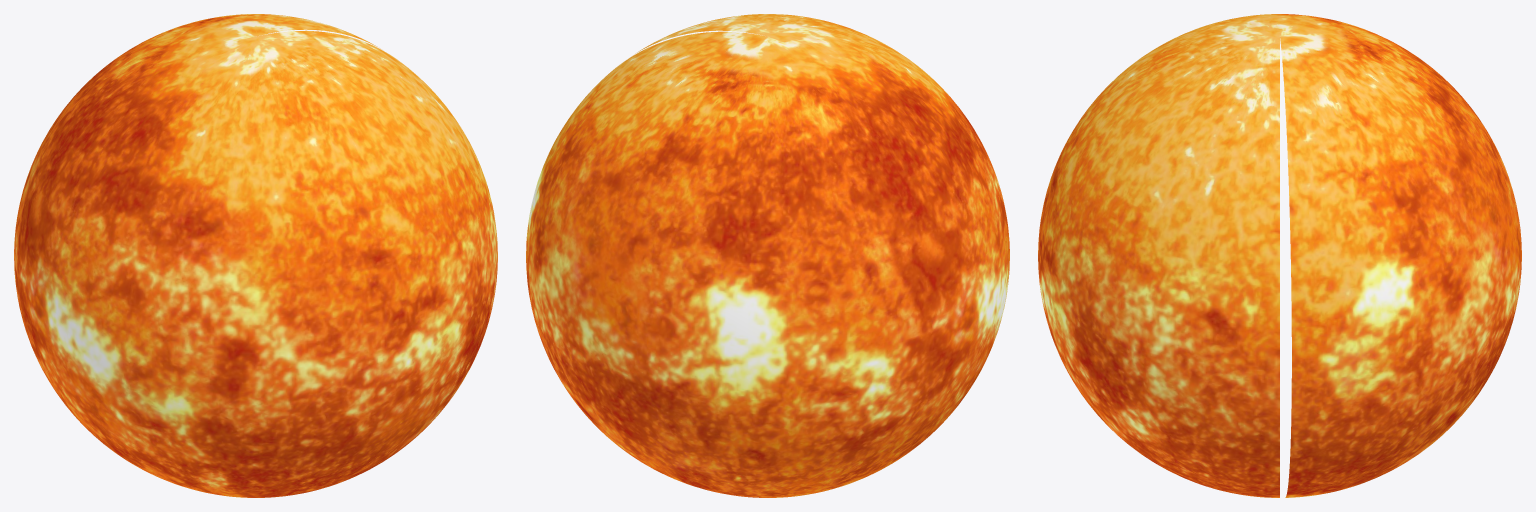
Rendered from sun.glb.
3 renders of one model, left to right at view 1: azimuth 30°, elevation 25°; view 2: azimuth 150°, elevation 25°; view 3: azimuth 270°, elevation 25°, orthographic.
Visible parts, largest first — view 1: Sun; view 2: Sun; view 3: Sun.
Part boxes in pixels (left/top/right/bottom): Sun: left=14, top=14, right=497, bottom=497; Sun: left=526, top=14, right=1009, bottom=497; Sun: left=1038, top=14, right=1521, bottom=497.
Size of the model in its own units: 2 by 2 by 2.
Materials: 1 (1 with a texture image).
